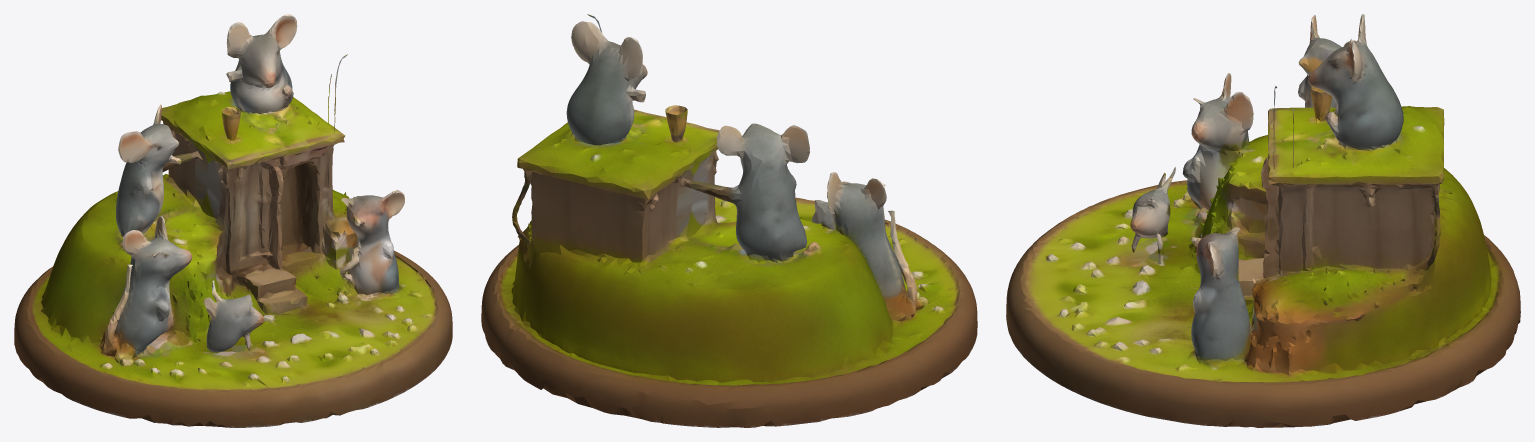
3 renders of one model, left to right at view 1: azimuth 30°, elevation 25°; view 2: azimuth 150°, elevation 25°; view 3: azimuth 270°, elevation 25°, orthographic. The views are drawn at different scales.
Parts seen in each view (by area): view 1: SalvageScrap; view 2: SalvageScrap; view 3: SalvageScrap.
Part boxes in pixels (x1=…): SalvageScrap: x1=14, y1=14, x2=452, y2=427; SalvageScrap: x1=481, y1=14, x2=977, y2=427; SalvageScrap: x1=1006, y1=14, x2=1520, y2=427.
Bounding box in the file's own units: 1.9 × 1.3 × 1.84.
1 material, 1 textured.
